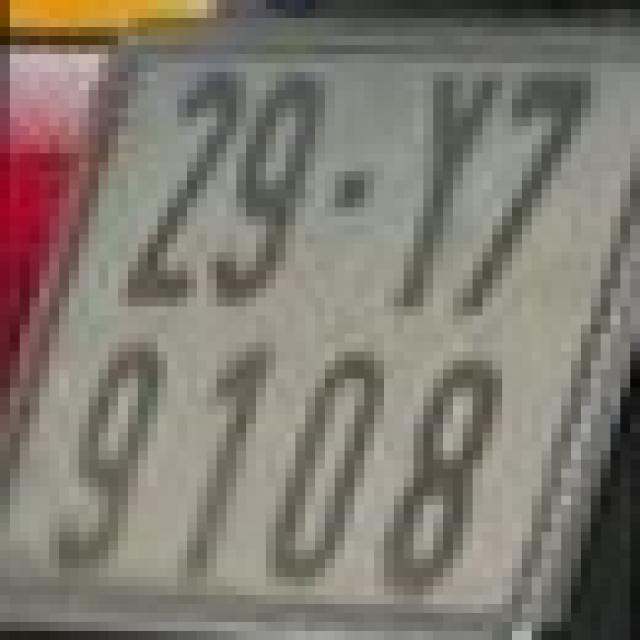0: (266, 351, 384, 586)
1: (177, 342, 266, 586)
2: (118, 72, 236, 307)
7: (463, 72, 591, 316)
8: (384, 351, 502, 595)
9: (39, 342, 168, 577), (217, 72, 325, 298)
Y: (379, 59, 487, 311)
